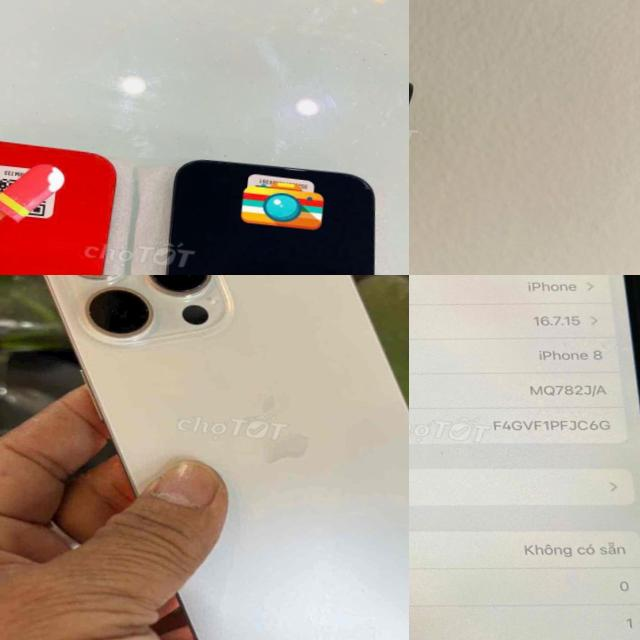gen_14: (131, 152, 409, 275)
gen_15: (0, 275, 409, 640)
gen_7_8: (409, 275, 640, 640)
